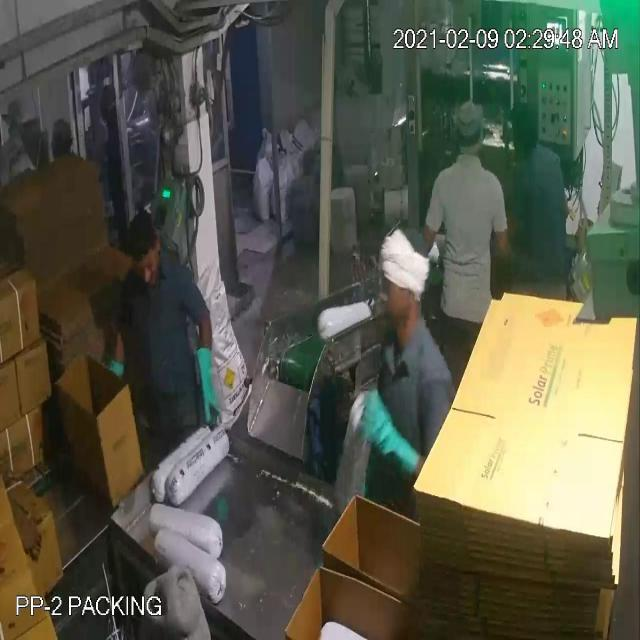Gloves: (48, 112, 384, 425)
